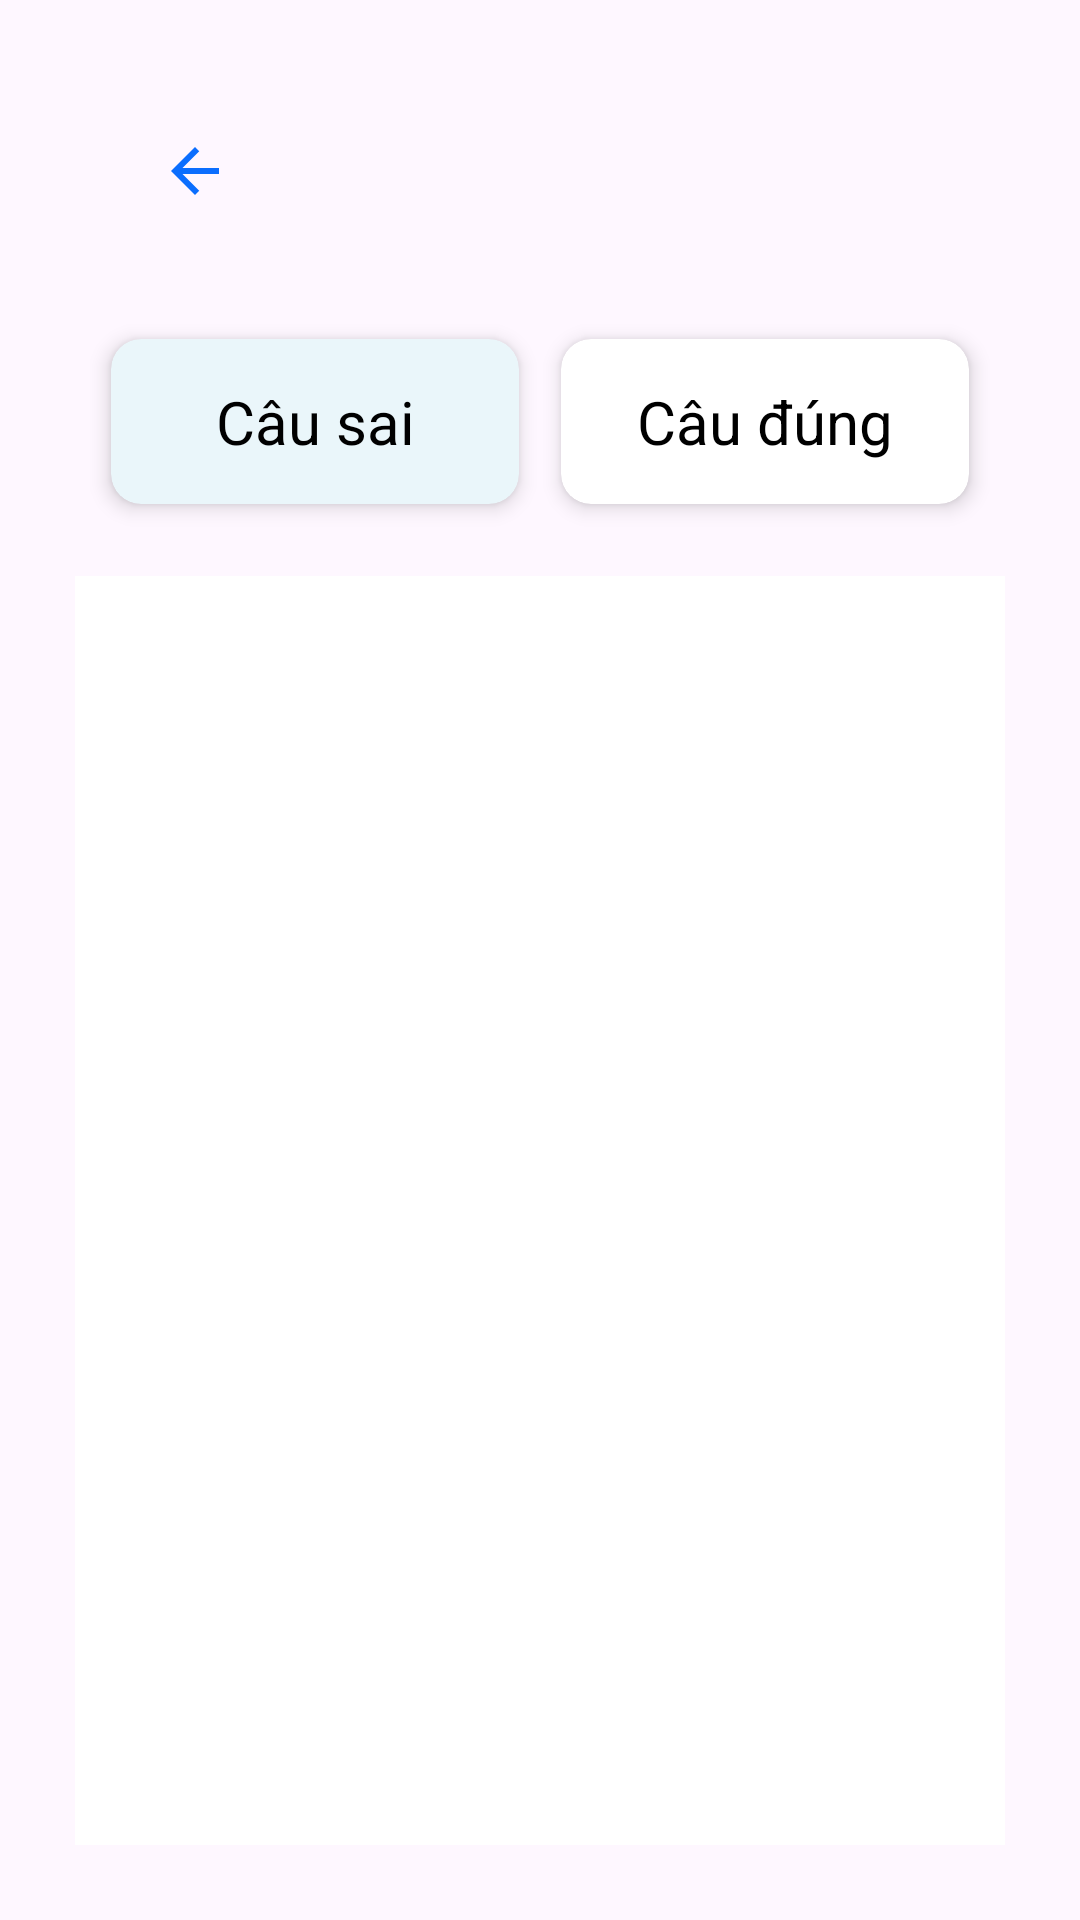

Where to tap for icons on this 1080 x 1920 app screen, as (x=x, y=y):
arrow back: (x=195, y=171)
